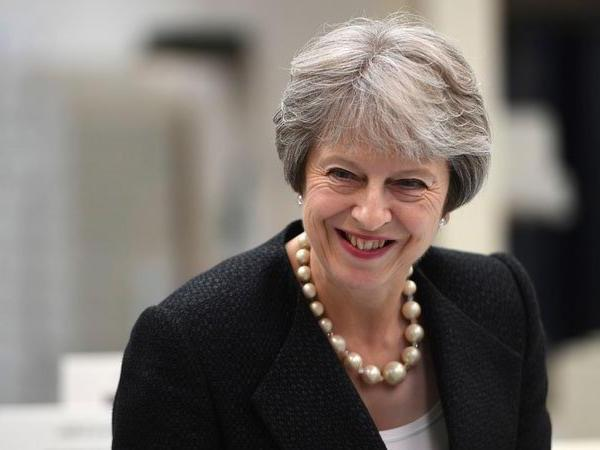Sober: (305, 136, 440, 282)
